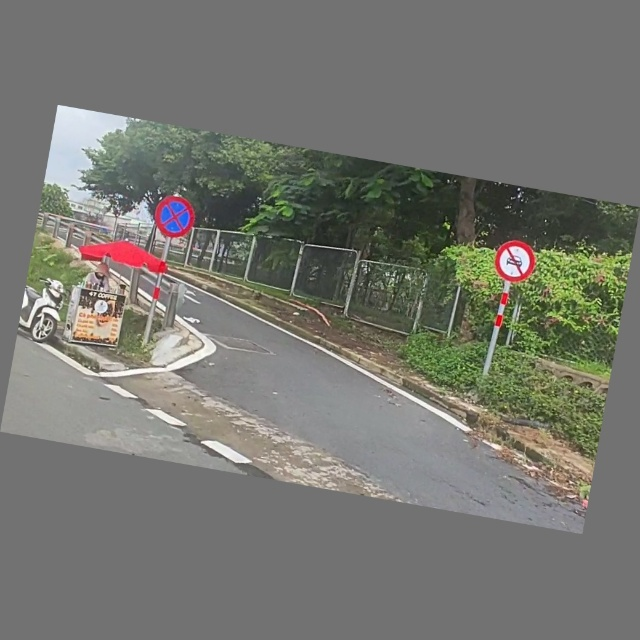P.103a: (490, 237, 539, 288)
P.130: (151, 193, 199, 243)
